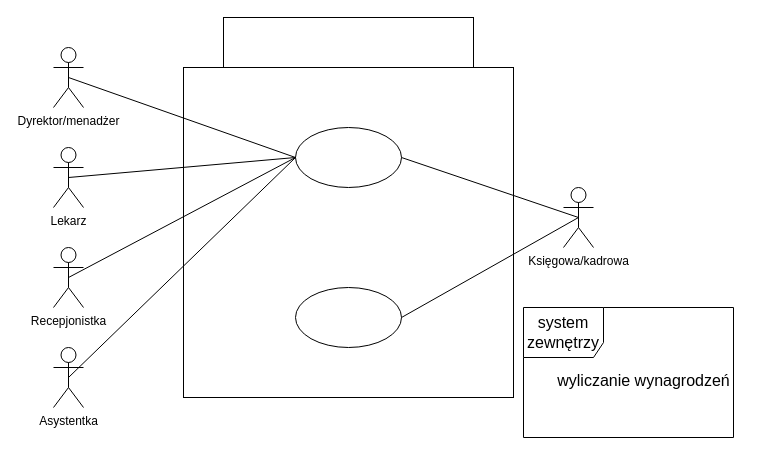
This 760x455 diagram has some shape labels left out. Each missing label, with the centre of its shape:
5.2.2.3 Naliczanie godzin pracy i wynagrodzenia: the point at 348,42
Naliczanie godzin: the point at 348,157
Wyliczenie wynagrodzenia: the point at 348,317
